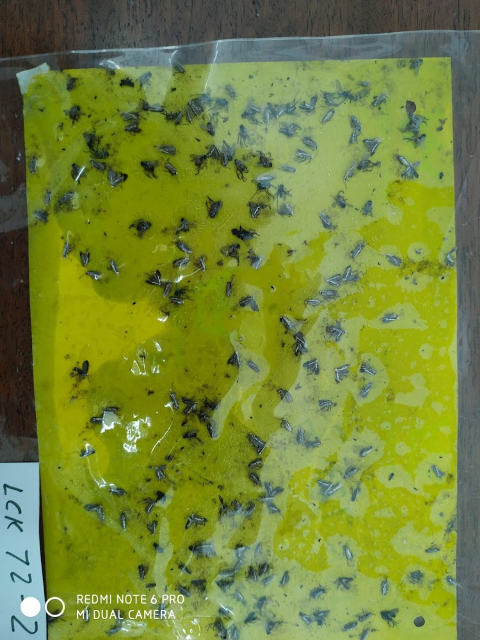DBM: (394, 152, 423, 182), (316, 206, 339, 234), (324, 316, 347, 344), (192, 539, 220, 562), (330, 361, 354, 385), (183, 511, 209, 533), (291, 145, 318, 166), (439, 244, 460, 271), (246, 432, 269, 456), (105, 165, 128, 189), (265, 99, 290, 121), (347, 237, 369, 262), (301, 356, 324, 379), (424, 458, 447, 481), (83, 500, 106, 523), (297, 94, 320, 116), (340, 262, 361, 286), (237, 293, 261, 314), (310, 607, 332, 629), (263, 479, 285, 501), (278, 312, 299, 335), (44, 606, 67, 627), (340, 163, 359, 188), (248, 253, 273, 272), (319, 271, 345, 289), (243, 559, 261, 585), (361, 135, 383, 156), (184, 99, 206, 120), (355, 379, 376, 401), (190, 574, 211, 596), (323, 478, 346, 498), (305, 433, 329, 452), (295, 418, 310, 448), (300, 296, 328, 312), (282, 97, 303, 118), (173, 558, 194, 579), (147, 463, 169, 483), (178, 396, 200, 416), (142, 267, 162, 289), (76, 269, 105, 284), (337, 616, 361, 634), (244, 452, 268, 470), (353, 608, 378, 625), (370, 90, 390, 111), (299, 135, 320, 155), (383, 250, 404, 270), (56, 190, 77, 210), (358, 359, 380, 378), (345, 110, 363, 133), (227, 496, 245, 519), (30, 208, 53, 226), (88, 158, 112, 175), (279, 120, 299, 140), (115, 509, 131, 534), (222, 274, 238, 299), (356, 441, 377, 460), (309, 582, 330, 601), (217, 500, 236, 521), (296, 605, 314, 627), (341, 539, 356, 565), (98, 404, 124, 419), (290, 341, 309, 361), (232, 543, 253, 561), (264, 502, 285, 520), (173, 238, 194, 256), (276, 201, 297, 219), (203, 141, 221, 162), (25, 154, 40, 179), (338, 464, 360, 481), (247, 200, 264, 222), (244, 101, 263, 120), (443, 573, 462, 592), (316, 287, 340, 302), (335, 574, 355, 592), (247, 469, 265, 489), (242, 356, 262, 374), (317, 398, 338, 415), (274, 387, 295, 404), (279, 566, 296, 587), (215, 577, 236, 594), (59, 240, 76, 261), (309, 476, 334, 490), (318, 107, 337, 125), (229, 588, 248, 606), (78, 444, 97, 462), (123, 120, 142, 138), (348, 484, 365, 504), (132, 562, 149, 582), (225, 348, 242, 368), (105, 257, 122, 277), (380, 309, 401, 325), (166, 388, 180, 412), (193, 254, 209, 275), (107, 484, 129, 499), (161, 279, 176, 301), (142, 495, 158, 515), (242, 500, 258, 520), (376, 577, 391, 598), (205, 420, 220, 441), (261, 103, 275, 125), (254, 494, 282, 505), (174, 580, 191, 598), (161, 160, 178, 178), (279, 416, 295, 435), (228, 558, 244, 577), (171, 256, 192, 270), (291, 332, 309, 348), (143, 518, 159, 536), (182, 105, 195, 127), (78, 248, 91, 270), (104, 624, 124, 638), (250, 174, 278, 184), (347, 126, 360, 147), (211, 567, 232, 580), (166, 295, 187, 308), (227, 621, 241, 640), (421, 543, 443, 555), (251, 540, 264, 560), (357, 625, 374, 640), (157, 145, 178, 157), (88, 415, 110, 426), (261, 573, 276, 589), (172, 110, 185, 128), (170, 61, 185, 76), (257, 561, 270, 578), (42, 188, 53, 208), (219, 149, 228, 171), (82, 607, 92, 624)
